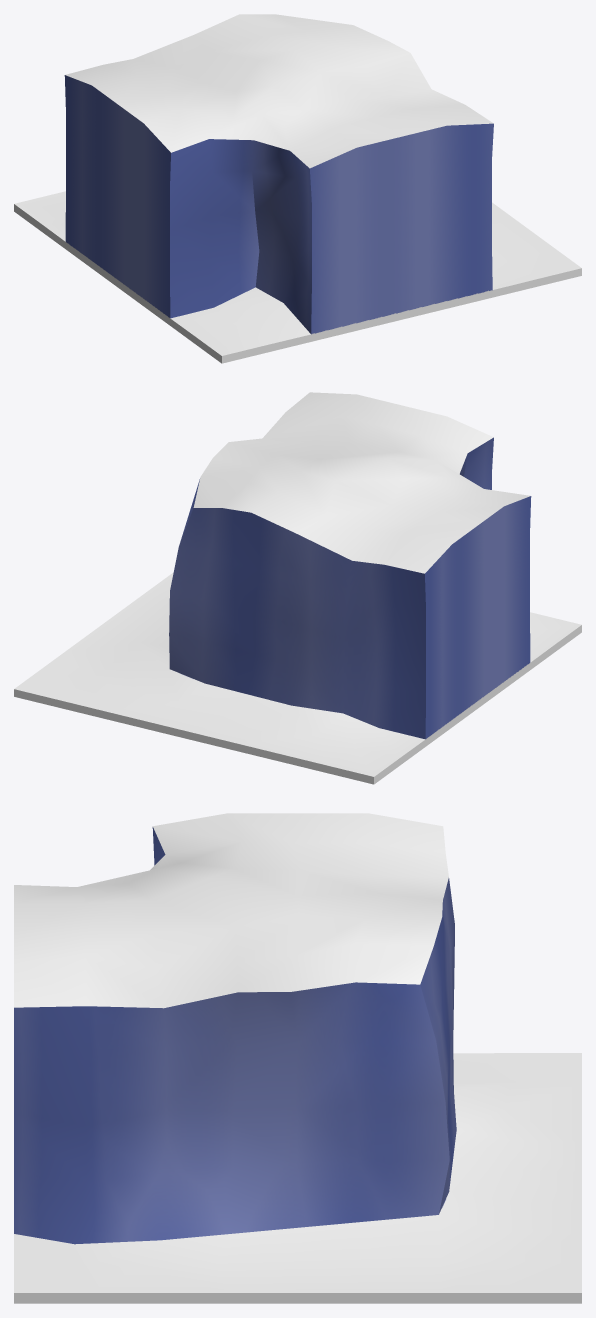
Rendered from wall_slim_join2_1.glb.
3 views of the same model, one above another, from view 1: azimuth 30°, elevation 25°; view 2: azimuth 150°, elevation 25°; view 3: azimuth 270°, elevation 25° (orthographic). The views are drawn at different scales.
Visible parts, largest first — view 1: wall_slim_join2_1.001; view 2: wall_slim_join2_1.001; view 3: wall_slim_join2_1.001.
Boxes of the visible parts, bbox=[...] form: wall_slim_join2_1.001: bbox=[14, 14, 581, 363]; wall_slim_join2_1.001: bbox=[14, 392, 581, 784]; wall_slim_join2_1.001: bbox=[14, 813, 581, 1303].
Bounding box in the file's own units: 2 × 1.04 × 2.
1 material, 1 textured.
